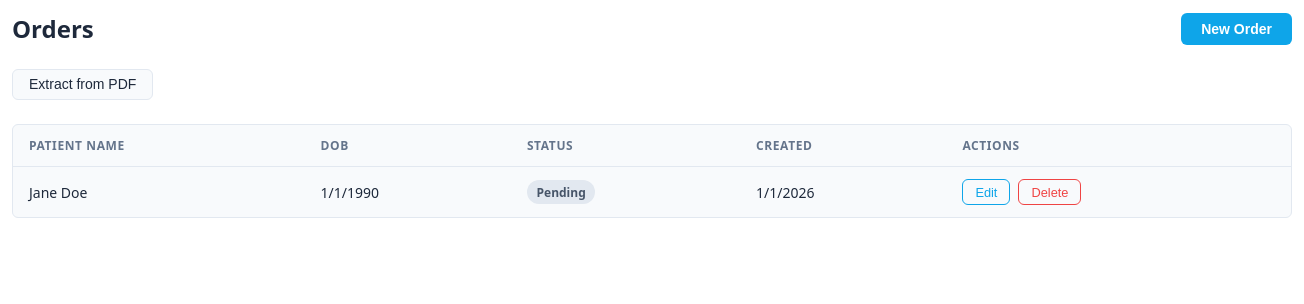
OrdersPage › shows error message when deleteOrder fails
Expected: the text "Jane Doe" is shown, top-left (13, 166), bottom-right (304, 217)
Click the button with aria-label "Delete order order-1": (1050, 192) top-left (1018, 179), bottom-right (1081, 205)
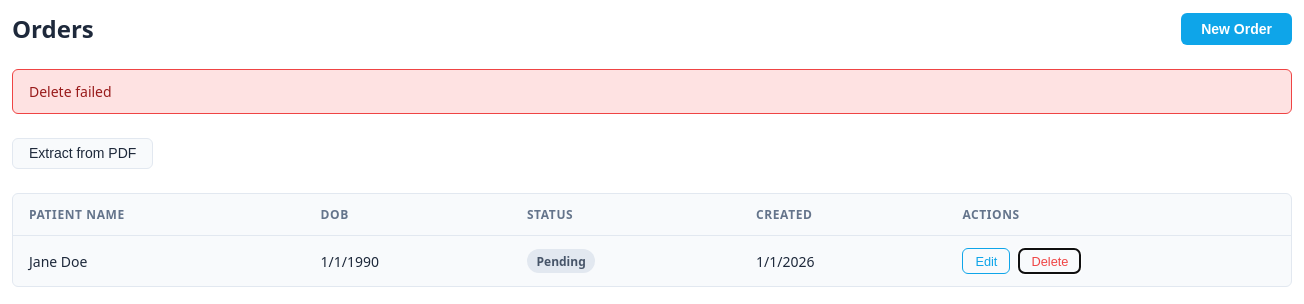
Now the message reads "Delete failed", box top-left (29, 82), bottom-right (112, 101)
